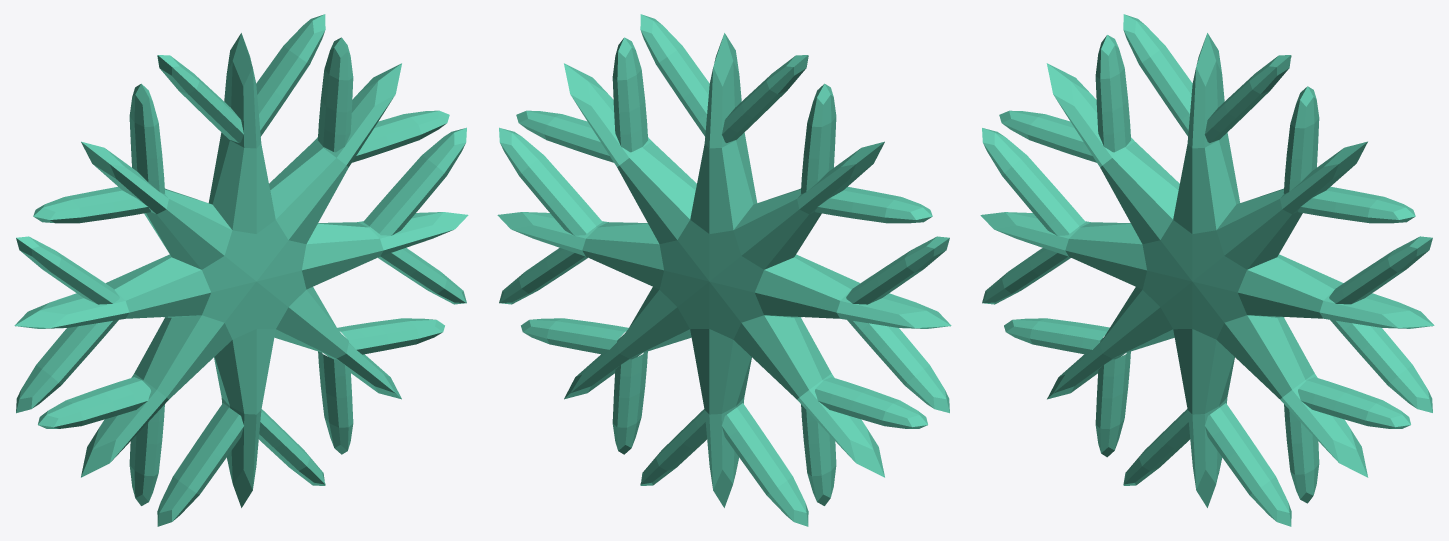
Rendered from Snowflake3.glb.
3 renders of one model, left to right at view 1: azimuth 30°, elevation 25°; view 2: azimuth 150°, elevation 25°; view 3: azimuth 330°, elevation 25°, orthographic.
Parts seen in each view (by area): view 1: Snowflake3_Cube.035; view 2: Snowflake3_Cube.035; view 3: Snowflake3_Cube.035.
Part boxes in pixels (x1,y1,x2,y2): Snowflake3_Cube.035: [14, 14, 468, 526]; Snowflake3_Cube.035: [497, 14, 951, 526]; Snowflake3_Cube.035: [980, 14, 1434, 526].
Size of the model in its own units: 0.8779 by 0.8779 by 0.1008.
